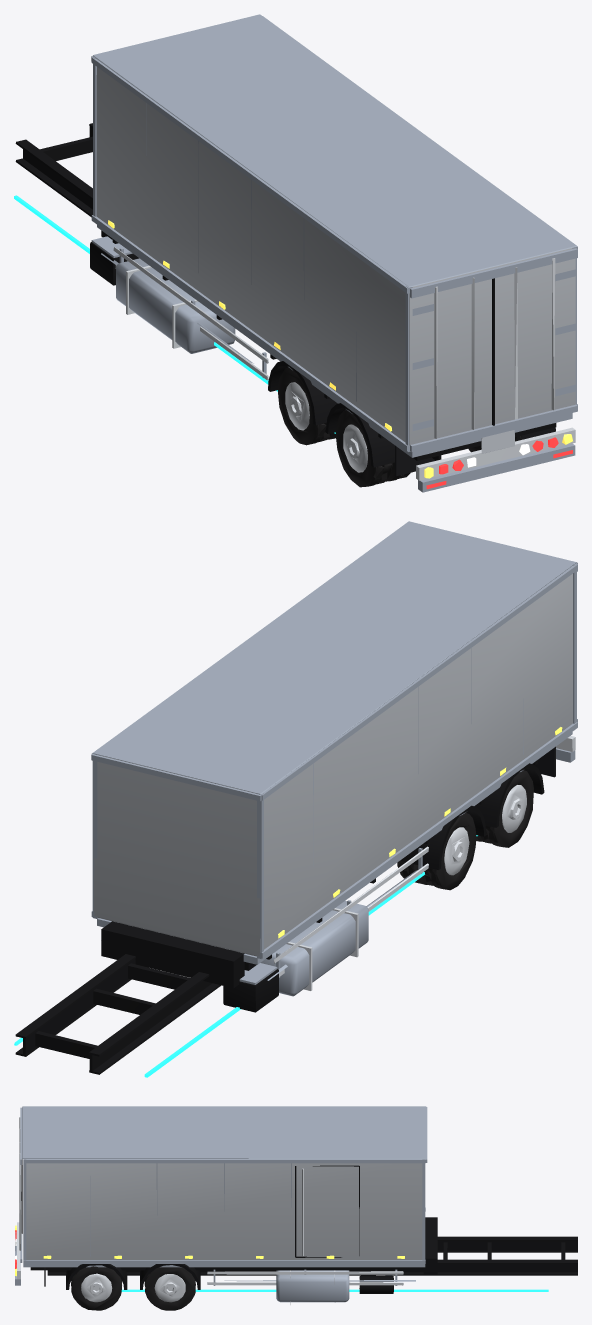
The model's file is body_alubox_lod1.glb.
3 renders of one model, top to bottom at view 1: azimuth 30°, elevation 25°; view 2: azimuth 150°, elevation 25°; view 3: azimuth 270°, elevation 25°, orthographic. The views are drawn at different scales.
Parts seen in each view (by area): view 1: lod1_box_alu, lod1_steel, lod1_chrome, lod1frame_plastic_black, lod1frame_steel, lod1_rubber_tire, lod1frame_lamp_cyan, lod1_rubber, lod1_plastic_black; view 2: lod1_box_alu, lod1_steel, lod1frame_plastic_black, lod1_plastic_black, lod1frame_steel, lod1_chrome, lod1_rubber_tire, lod1frame_lamp_cyan; view 3: lod1_box_alu, lod1_steel, lod1frame_plastic_black, lod1_chrome, lod1frame_steel, lod1_rubber_tire, lod1_plastic_black, lod1frame_lamp_cyan.
Part boxes in pixels (x1,y1,x2,y2): lod1_box_alu: (96,67,575,445); lod1_steel: (91,14,577,492); lod1_chrome: (113,247,575,480); lod1frame_plastic_black: (15,123,556,467); lod1frame_steel: (91,236,253,363); lod1_rubber_tire: (278,367,522,487); lod1frame_lamp_cyan: (14,195,335,433); lod1_rubber: (395,427,555,476); lod1_plastic_black: (101,230,494,438); lod1_box_alu: (94,574,572,956); lod1_steel: (91,521,577,977); lod1frame_plastic_black: (15,763,544,1074); lod1_plastic_black: (101,760,537,988); lod1frame_steel: (175,870,417,996); lod1_chrome: (273,736,575,976); lod1_rubber_tire: (397,770,533,890); lod1frame_lamp_cyan: (14,835,477,1077); lod1_box_alu: (26,1163,422,1259); lod1_steel: (15,1106,427,1285); lod1frame_plastic_black: (30,1236,577,1293); lod1_chrome: (17,1117,403,1302); lod1frame_steel: (224,1270,415,1302); lod1_rubber_tire: (71,1266,195,1310); lod1_plastic_black: (21,1159,437,1275); lod1frame_lamp_cyan: (121,1289,548,1291).
Size of the model in its own units: 2.78 by 3.46 by 11.48.
Materials: 11 (1 with a texture image).
